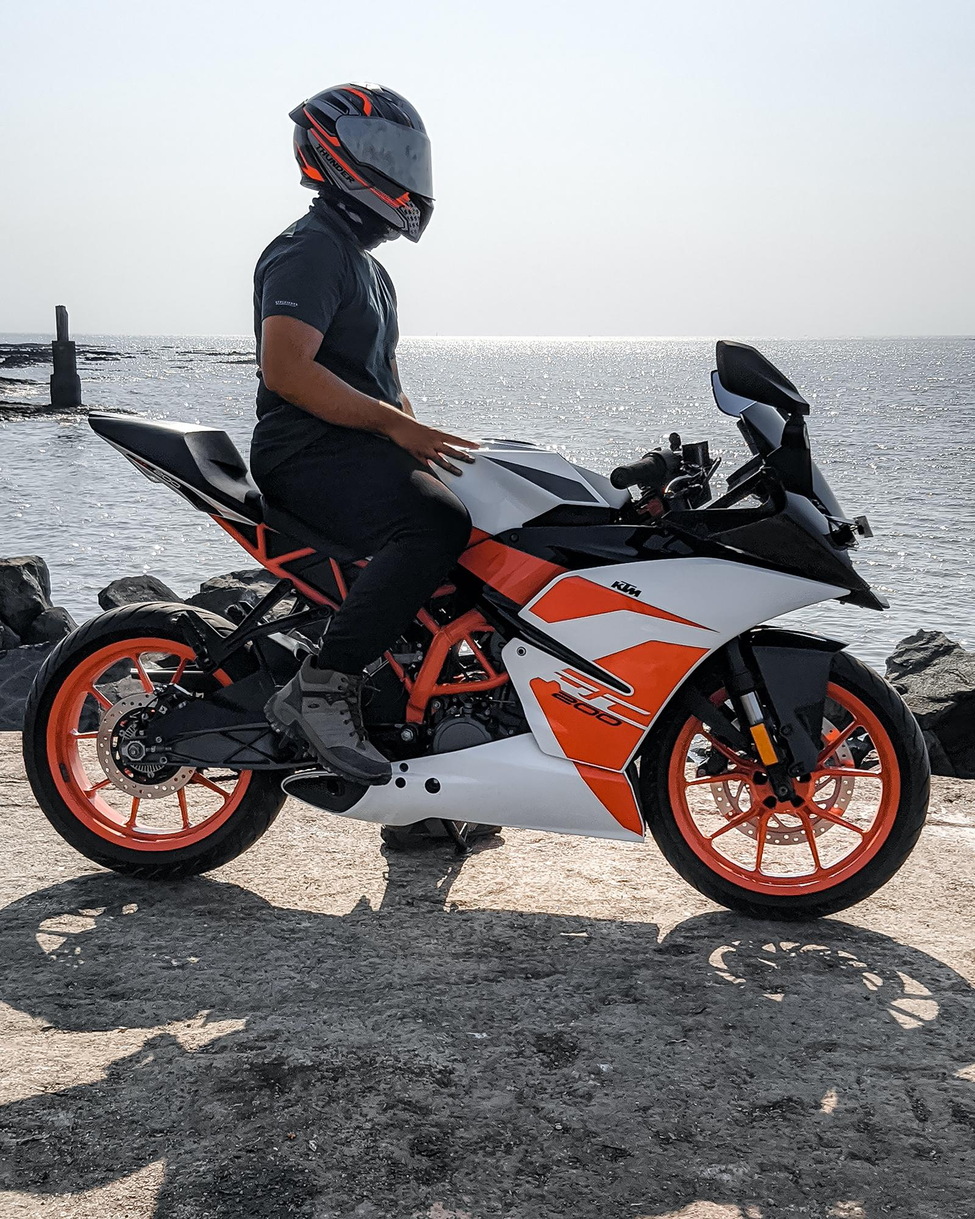helmet: (288, 80, 436, 244)
